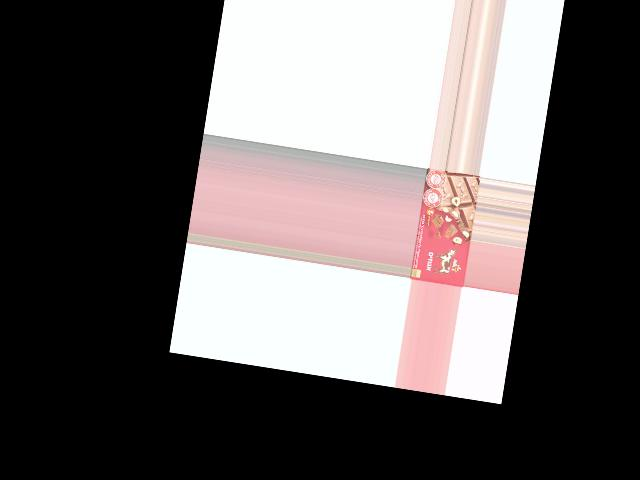chocolate: (411, 168, 480, 287)
